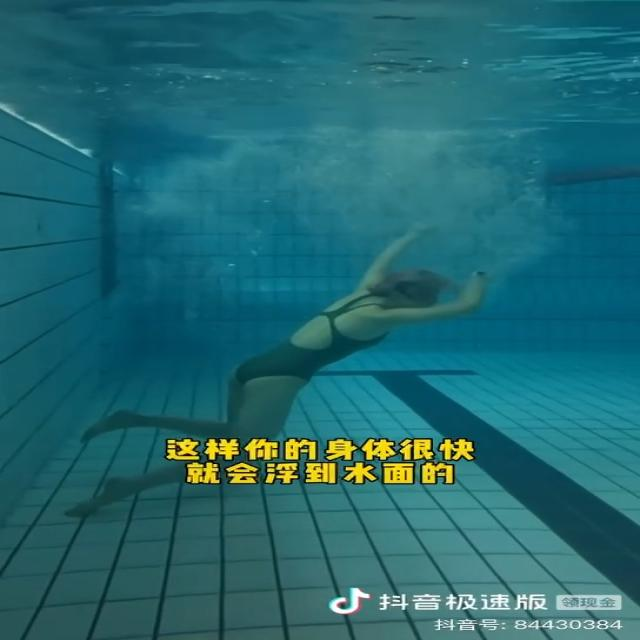Drowning: (67, 223, 489, 520)
